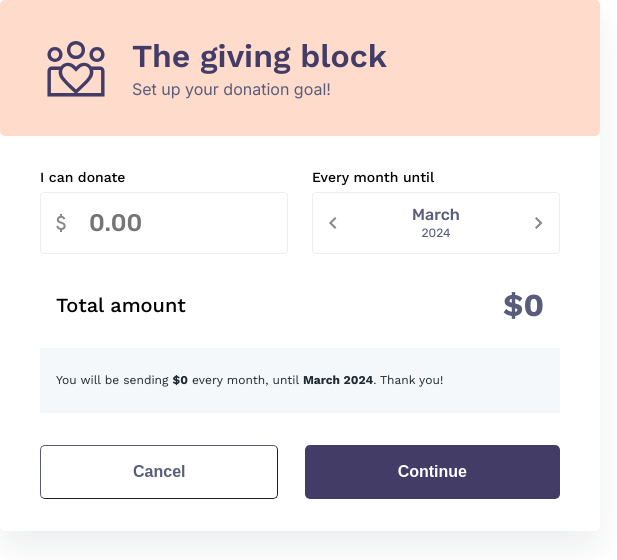
Test: DonationBox › total amount › fills input with number with 1-digit factorial
Click the button with test id "right-month-icon" at (539, 223), box [527,211,551,235]
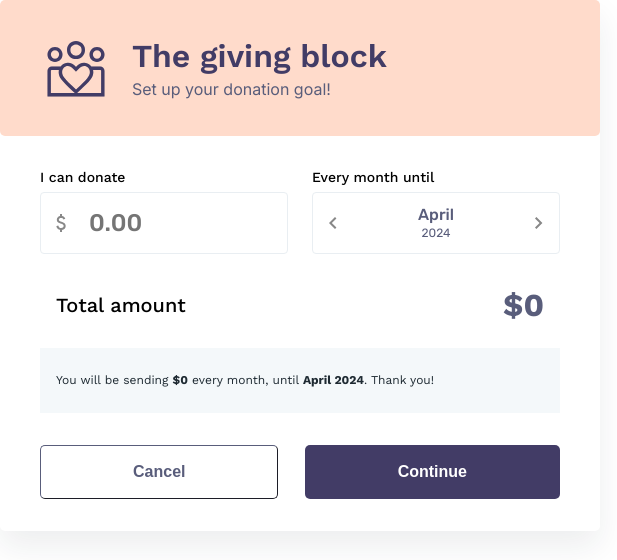
Click the button with test id "right-month-icon" at (539, 223), box [527,211,551,235]
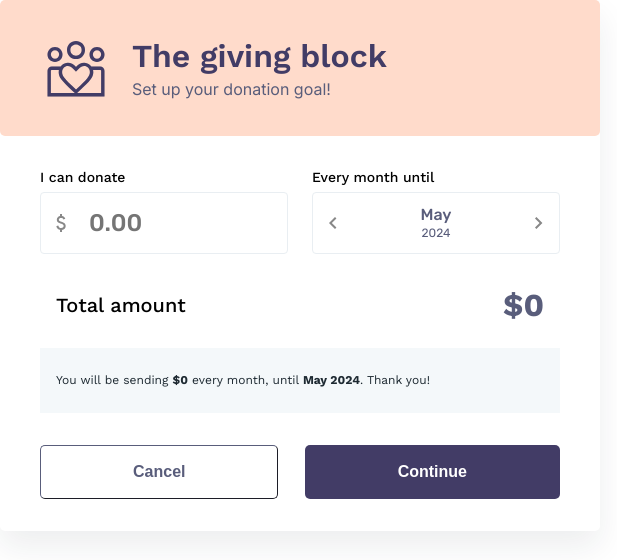
Click the button with test id "right-month-icon" at (539, 223), box [527,211,551,235]
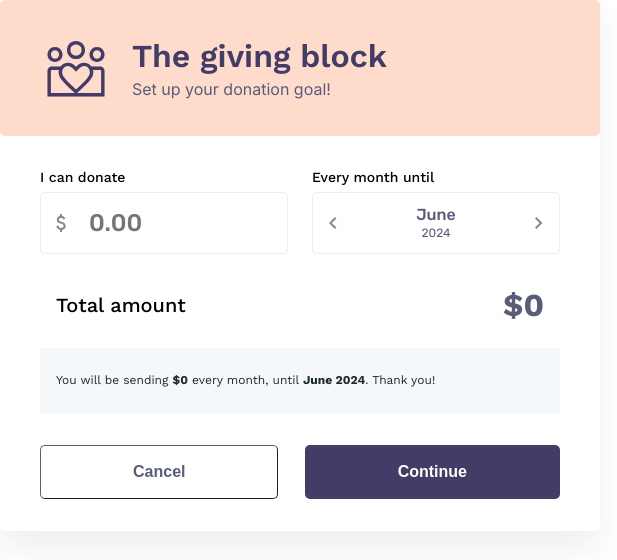
Type "33.3" into the field with test id "amount-input" at (176, 223), box [73,209,279,237]
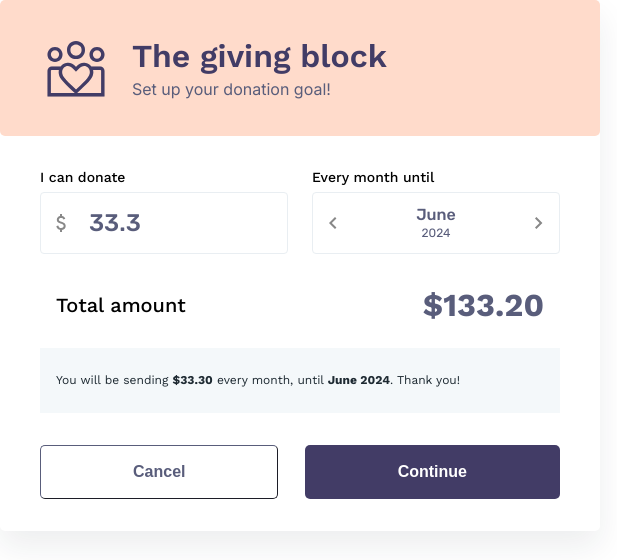
Expected: the text with test id "total-amount" reads "$133.20", [423,286,544,324]
